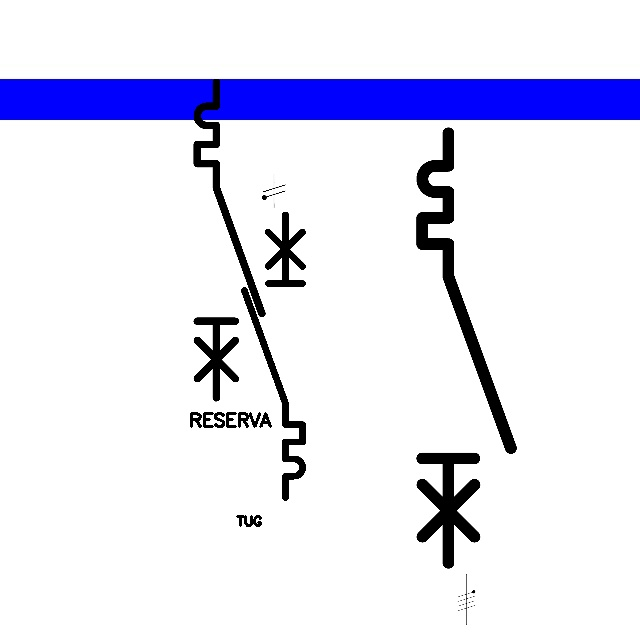interruptor_termomagnetico: (411, 122, 521, 574), (189, 74, 270, 406), (237, 207, 310, 504)
